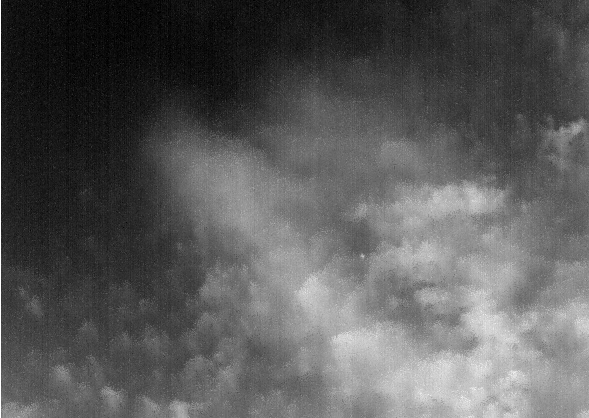dim target: (359, 251, 365, 258)
